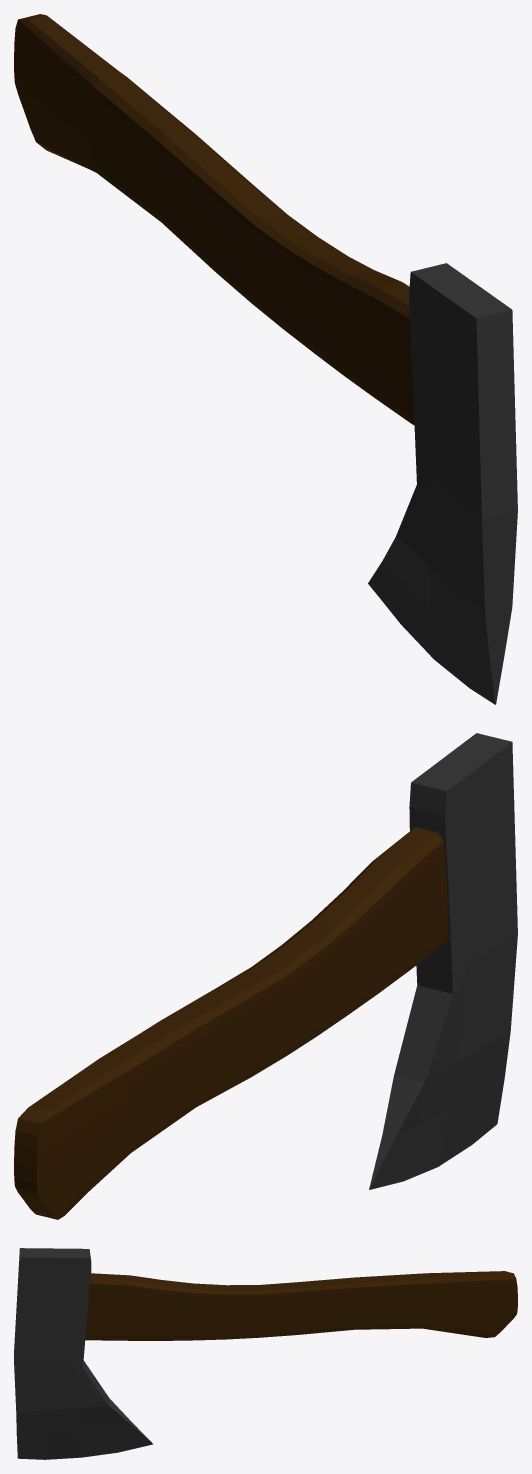
The model's file is hatchet.glb.
The picture shows the model from 3 angles, top to bottom: view 1: azimuth 30°, elevation 25°; view 2: azimuth 150°, elevation 25°; view 3: azimuth 270°, elevation 25°; orthographic projection. The views are drawn at different scales.
Parts seen in each view (by area): view 1: Cube.001, Cube; view 2: Cube.001, Cube; view 3: Cube.001, Cube.
Part boxes in pixels (box(x1,y1,x2,y2)): Cube.001: box(14, 14, 414, 425); Cube: box(368, 263, 517, 704); Cube.001: box(14, 827, 448, 1219); Cube: box(369, 733, 517, 1189); Cube.001: box(85, 1271, 517, 1340); Cube: box(14, 1248, 153, 1459).
Bounding box in the file's own units: 0.1779 × 1.8 × 3.96.
Materials: 2 (2 with a texture image).
